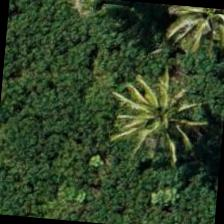Kelapa_Sawit: (113, 72, 210, 170), (162, 4, 223, 69)
